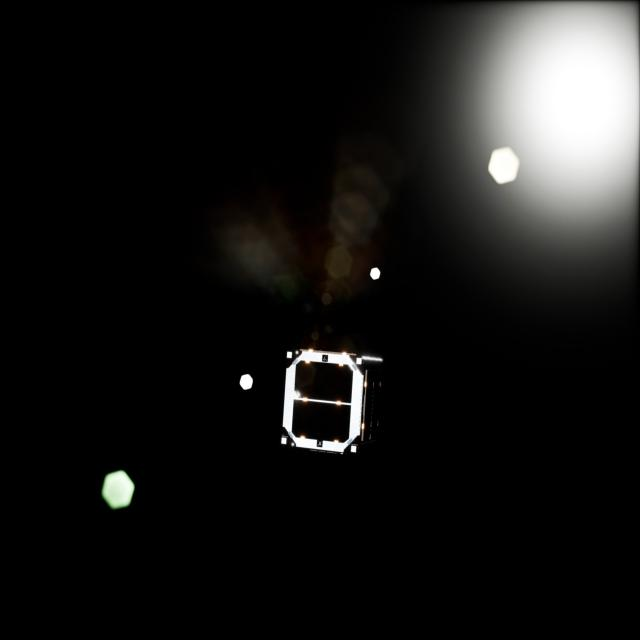medium_debris: (280, 339, 387, 456)
